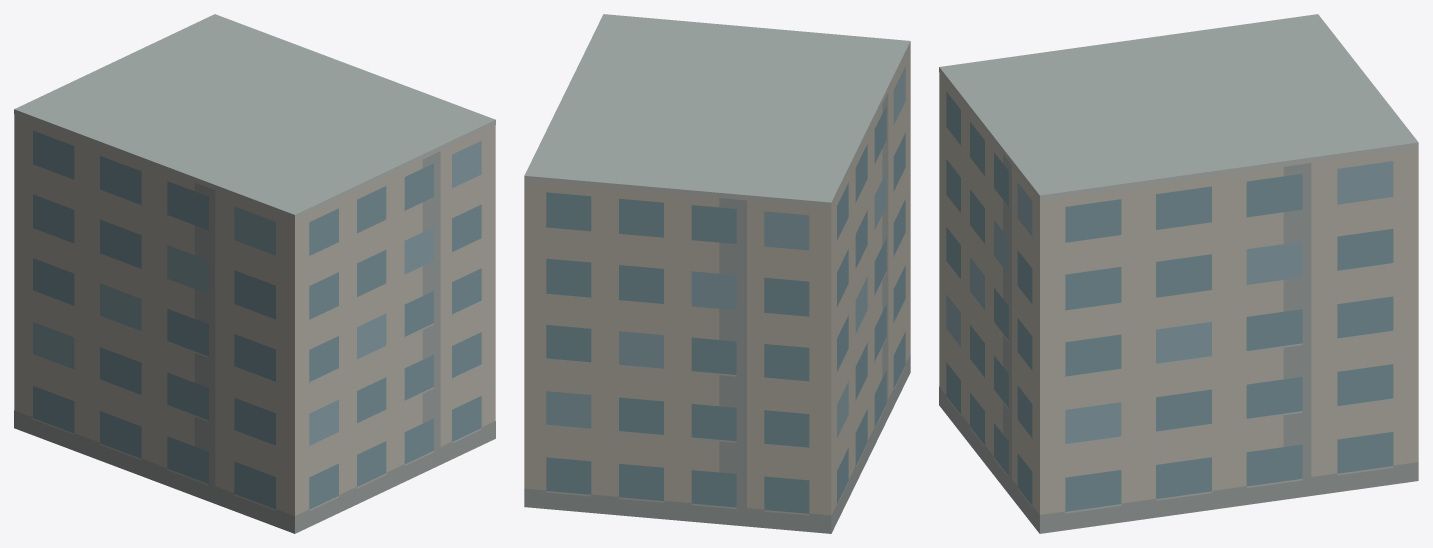
File: residential-537c51c7-364a-41d6-8e20-8375ff64af1b.glb
3 views of the same model, side by side, from view 1: azimuth 30°, elevation 25°; view 2: azimuth 150°, elevation 25°; view 3: azimuth 270°, elevation 25° (orthographic). The views are drawn at different scales.
Parts seen in each view (by area): view 1: residential-537c51c7-364a-41d6-8e20-8375ff64af1b.tmp; view 2: residential-537c51c7-364a-41d6-8e20-8375ff64af1b.tmp; view 3: residential-537c51c7-364a-41d6-8e20-8375ff64af1b.tmp.
Boxes of the visible parts, x1,y1,x2,y2 form: residential-537c51c7-364a-41d6-8e20-8375ff64af1b.tmp: (14,14,495,533); residential-537c51c7-364a-41d6-8e20-8375ff64af1b.tmp: (524,14,910,533); residential-537c51c7-364a-41d6-8e20-8375ff64af1b.tmp: (939,14,1418,533).
Size of the model in its own units: 17.55 by 15.25 by 19.59.
